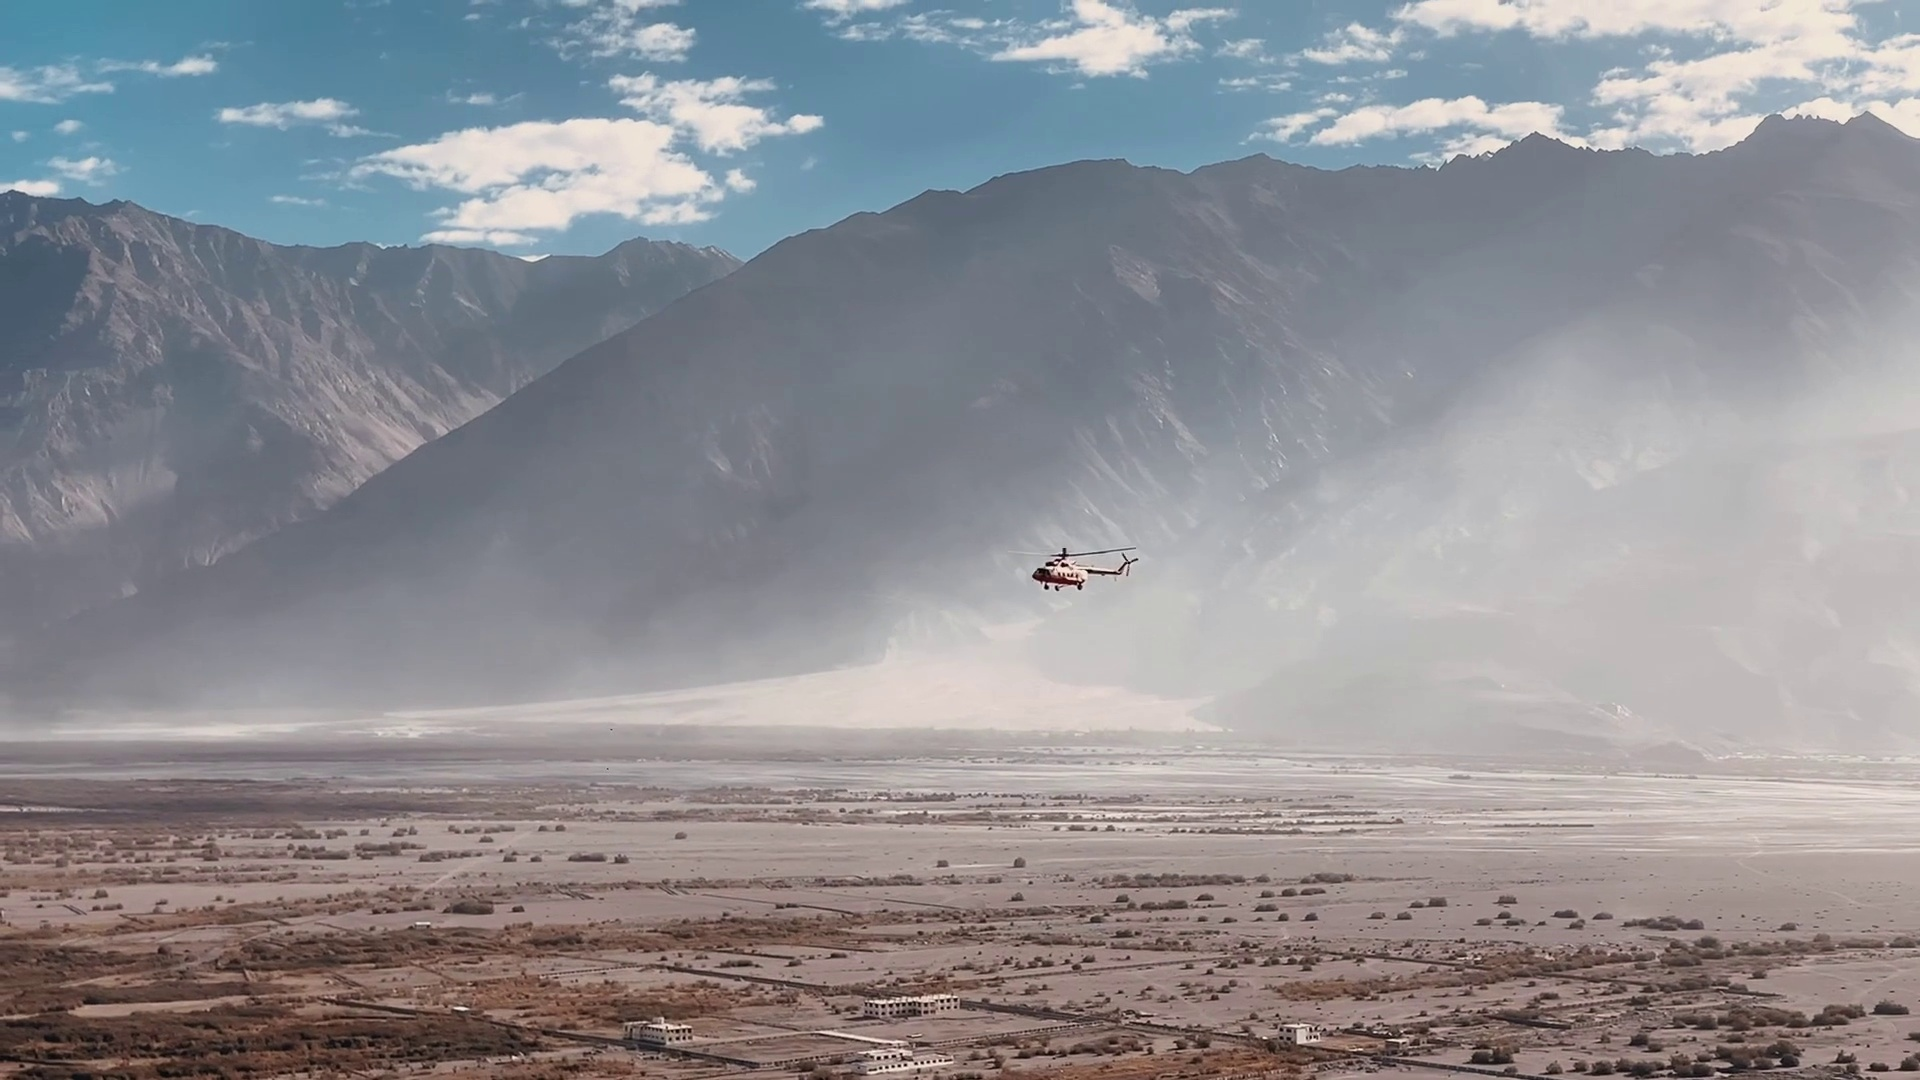heli: (1007, 538, 1142, 596)
